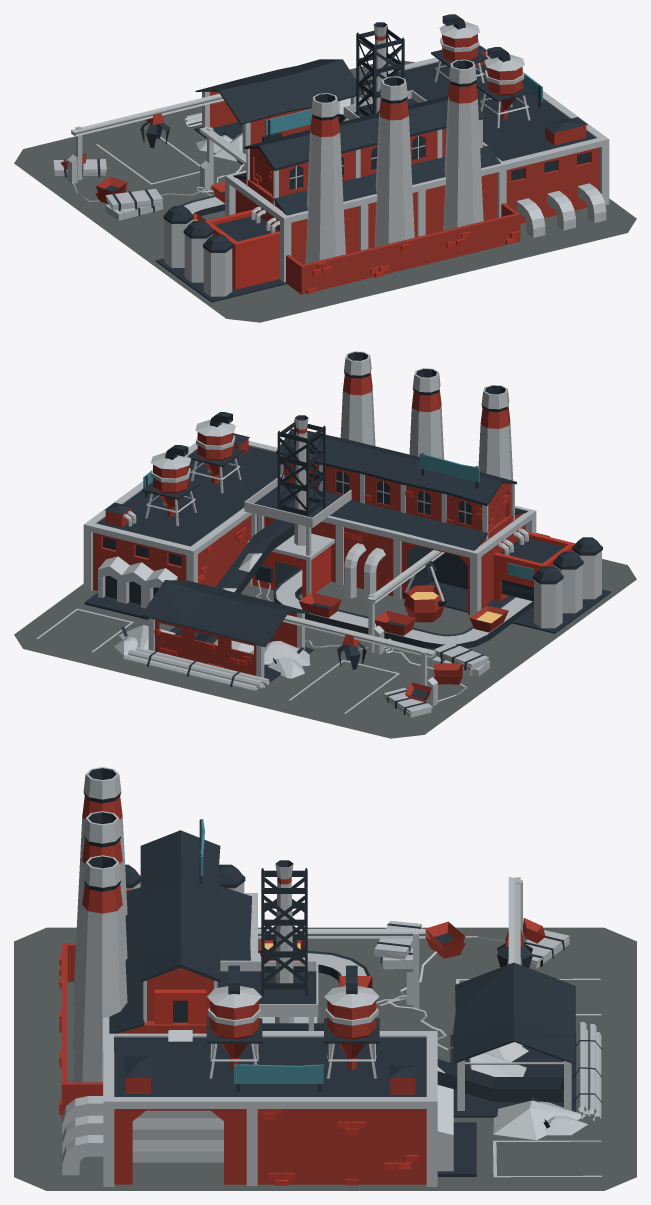
Rendered from Factory.fbx.
The picture shows the model from 3 angles, top to bottom: view 1: azimuth 30°, elevation 25°; view 2: azimuth 150°, elevation 25°; view 3: azimuth 270°, elevation 25°; orthographic projection. The views are drawn at different scales.
Visible parts, largest first — view 1: factory; view 2: factory; view 3: factory.
Part boxes in pixels (x1,y1,x2,y2): factory: [14, 14, 636, 322]; factory: [14, 351, 636, 738]; factory: [14, 767, 636, 1190].
Bounding box in the file's own units: 1125 × 479 × 1125.
